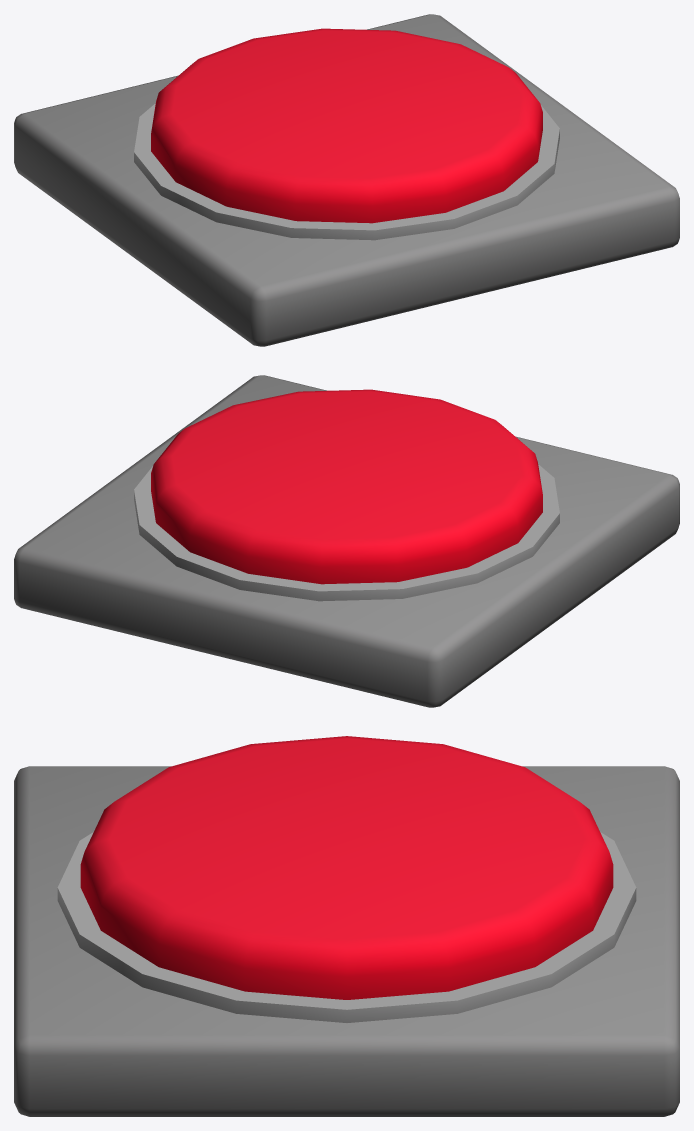
File: Prop_Button_02.fbx
The picture shows the model from 3 angles, top to bottom: view 1: azimuth 30°, elevation 25°; view 2: azimuth 150°, elevation 25°; view 3: azimuth 270°, elevation 25°; orthographic projection. The views are drawn at different scales.
Parts seen in each view (by area): view 1: Prop_Button_02, Prop_Button_02_Button; view 2: Prop_Button_02, Prop_Button_02_Button; view 3: Prop_Button_02, Prop_Button_02_Button.
Boxes of the visible parts, x1,y1,x2,y2 form: Prop_Button_02: [14, 14, 679, 346]; Prop_Button_02_Button: [151, 28, 542, 223]; Prop_Button_02: [14, 375, 679, 707]; Prop_Button_02_Button: [151, 389, 542, 584]; Prop_Button_02: [14, 766, 679, 1116]; Prop_Button_02_Button: [80, 736, 613, 999].
Size of the model in its own units: 95.26 by 22.6 by 95.26.
